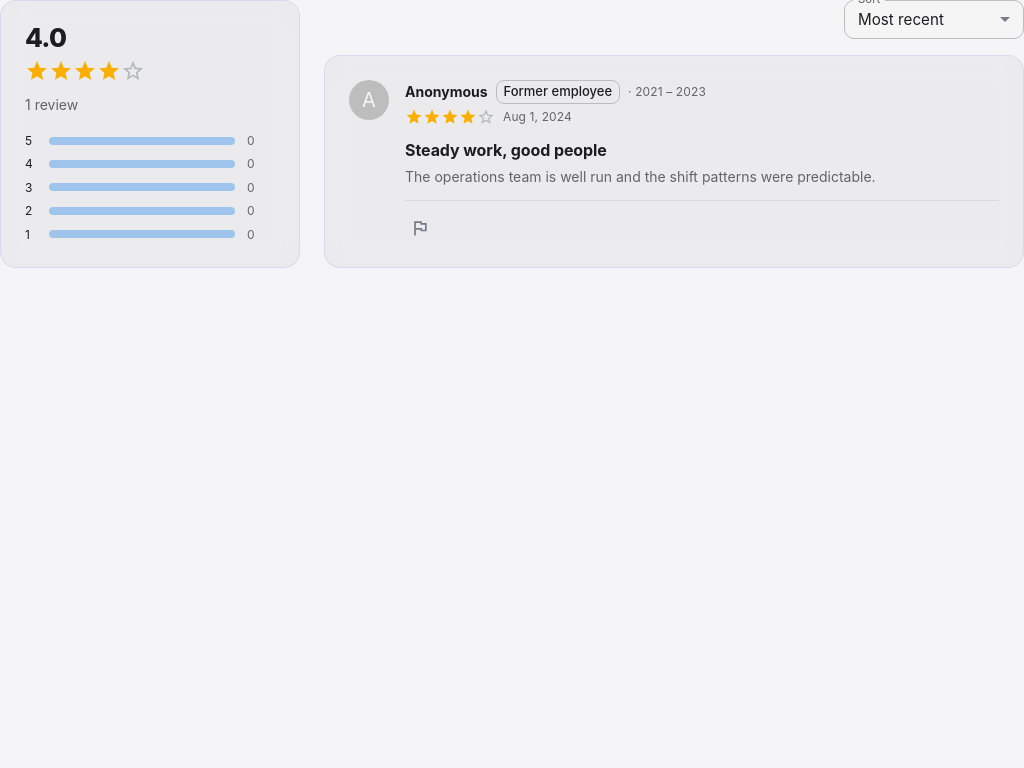
CompanyReviews › reports a review without removing it from the page
Click the button named "Report this review" at (420, 228), box x1=405 y1=212 x2=435 y2=242
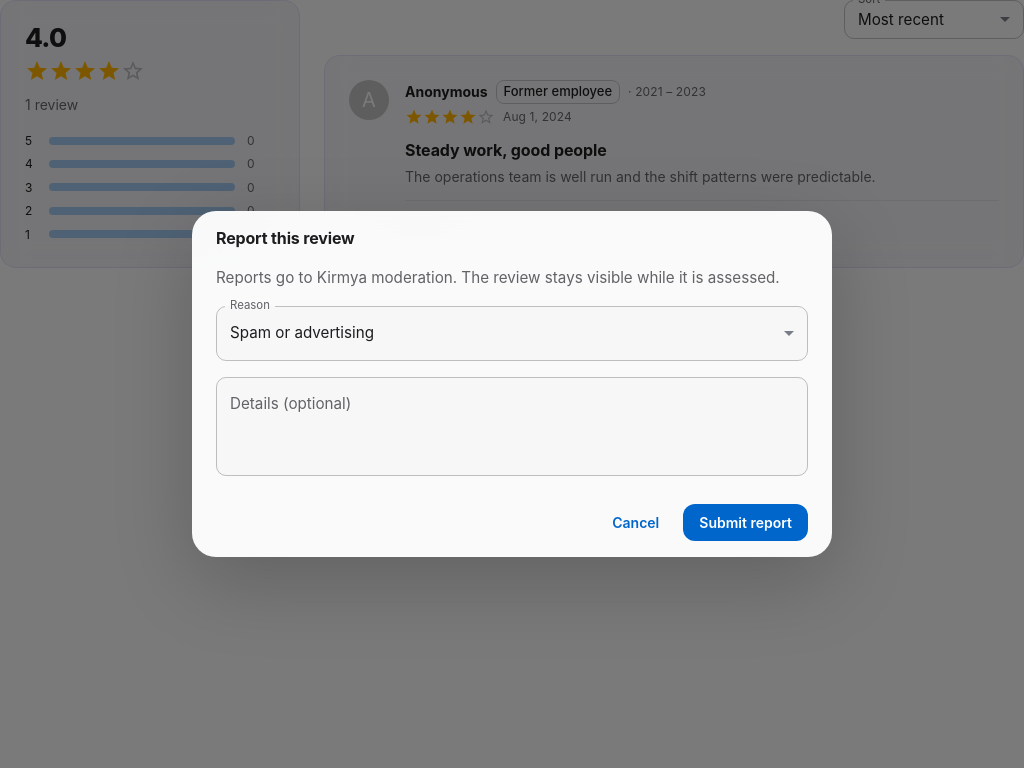
Expected: the text "Reports go to Kirmya moderation. The review stays visible while it is assessed." is shown, x1=216 y1=266 x2=808 y2=290
Type "This is an advert." into the text box labelled "Details (optional)" at (512, 426), box x1=230 y1=393 x2=794 y2=459
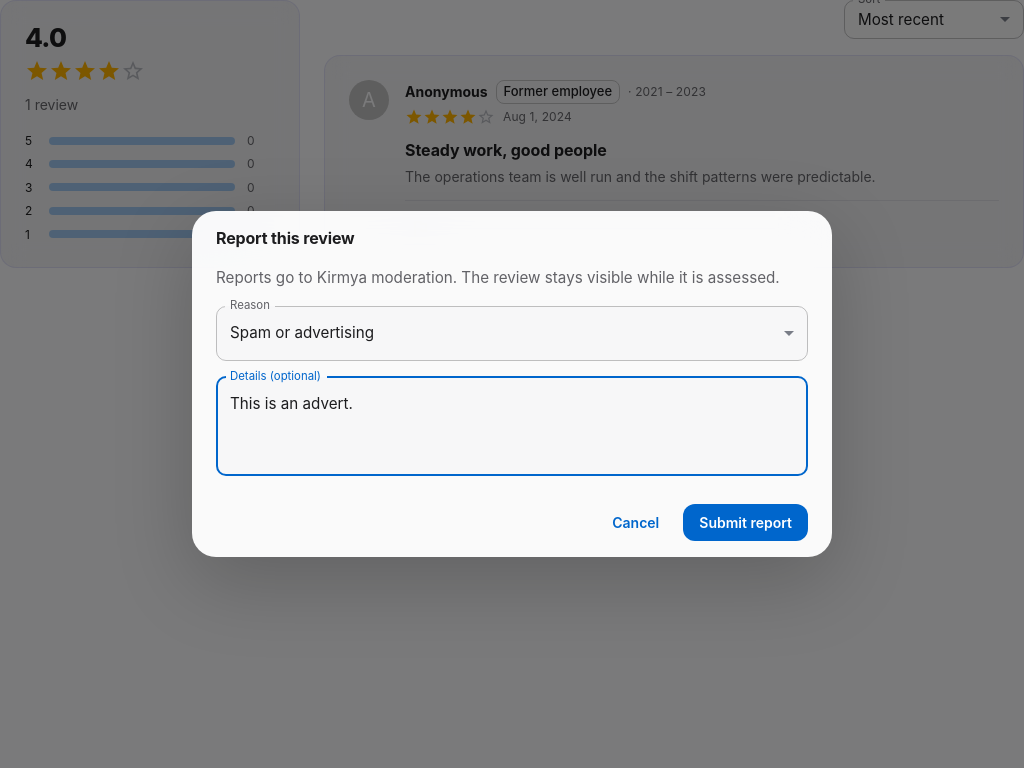
Click the button "Submit report" at (746, 522), box x1=683 y1=504 x2=808 y2=541
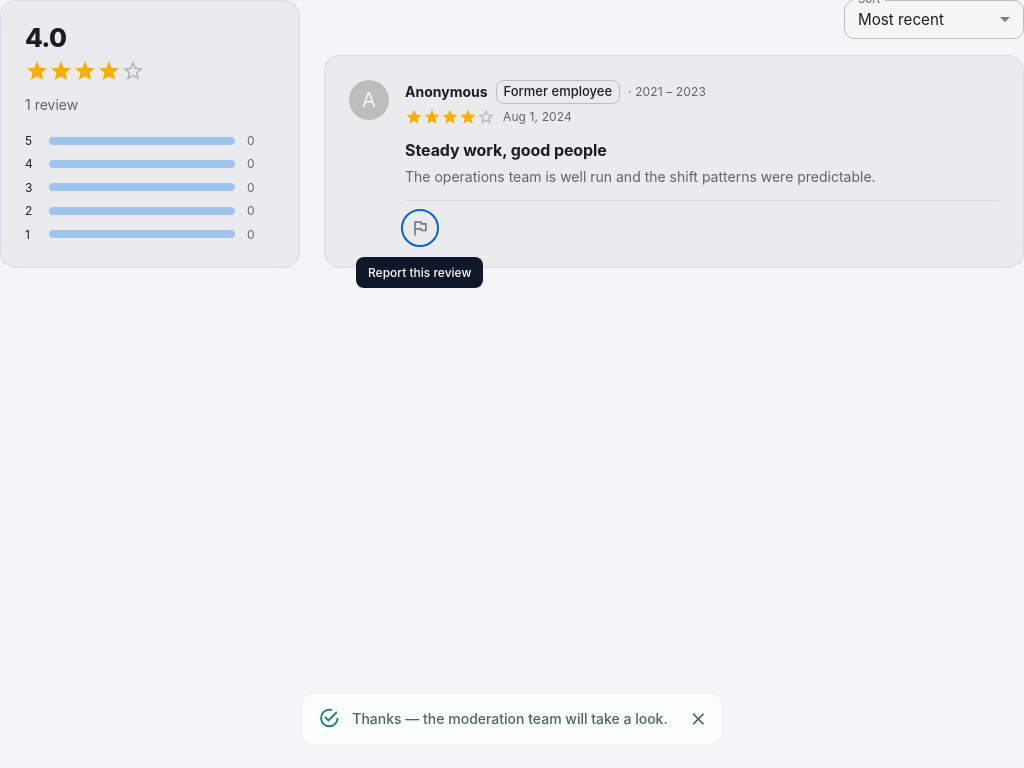
Expected: the element that starts with "Anonymous" is shown, x1=324 y1=55 x2=1023 y2=268
Expected: the text "Thanks — the moderation team will take a look." is shown, x1=352 y1=710 x2=668 y2=727
Expected: the dialog is gone
